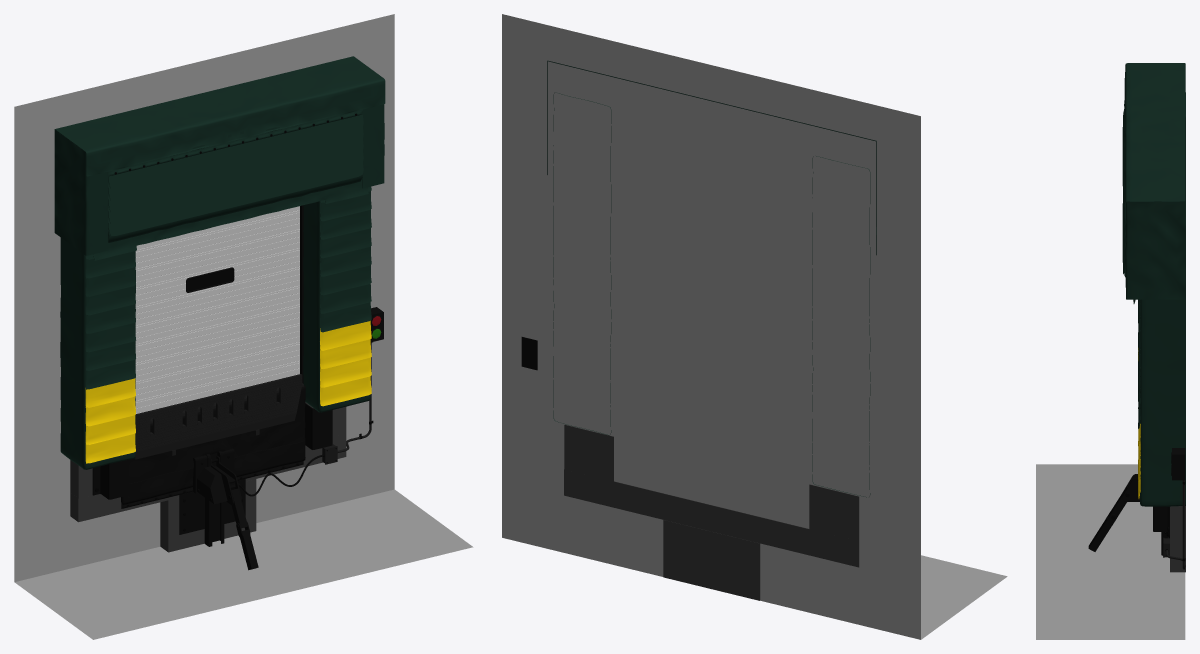
The model's file is Dock Shelter(Model).FBX.
The picture shows the model from 3 angles, left to right: view 1: azimuth 30°, elevation 25°; view 2: azimuth 150°, elevation 25°; view 3: azimuth 270°, elevation 25°; orthographic projection. The views are drawn at different scales.
Parts seen in each view (by area): view 1: Base_01, Base_07, Base_03, Base_02, Base_04, Base_06, Base_05; view 2: Base_07, Base_04, Base_01; view 3: Base_01, Base_07, Base_02, Base_04, Base_06, Base_05.
Boxes of the visible parts, x1,y1,x2,y2 form: Base_01: (54, 56, 385, 531); Base_07: (14, 14, 473, 639); Base_03: (134, 374, 337, 464); Base_02: (92, 205, 332, 570); Base_04: (70, 402, 346, 552); Base_06: (108, 179, 371, 504); Base_05: (197, 307, 383, 504); Base_07: (502, 14, 1007, 639); Base_04: (564, 424, 859, 600); Base_01: (547, 60, 876, 497); Base_01: (1111, 63, 1185, 566); Base_07: (1036, 464, 1185, 639); Base_02: (1088, 485, 1169, 555); Base_04: (1170, 506, 1185, 572); Base_06: (1122, 474, 1184, 569); Base_05: (1171, 448, 1185, 480).
Size of the model in its own units: 4230 by 5053 by 1526.
